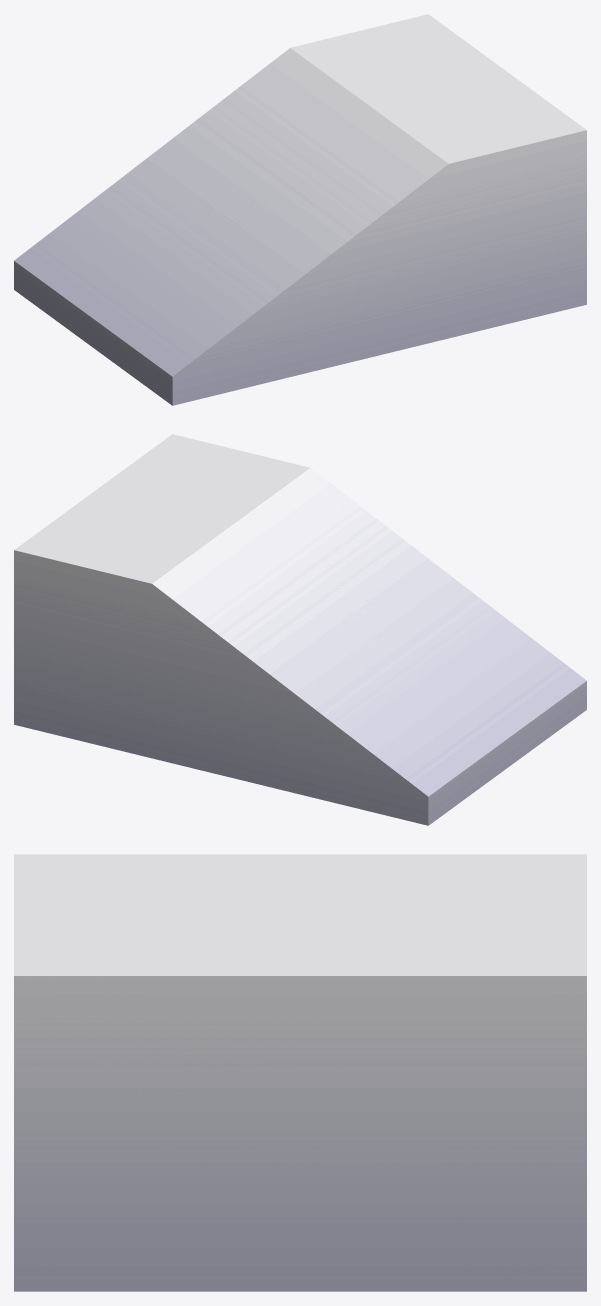
Rendered from brick-kit--none-lq-brick-slope-3x2.glb.
3 views of the same model, one above another, from view 1: azimuth 30°, elevation 25°; view 2: azimuth 150°, elevation 25°; view 3: azimuth 270°, elevation 25° (orthographic). The views are drawn at different scales.
Parts seen in each view (by area): view 1: none-lq-brick-slope-3x2; view 2: none-lq-brick-slope-3x2; view 3: none-lq-brick-slope-3x2.
Part boxes in pixels (x1,y1,x2,y2): none-lq-brick-slope-3x2: (14,14,586,405); none-lq-brick-slope-3x2: (14,434,586,825); none-lq-brick-slope-3x2: (14,854,586,1291).
Size of the model in its own units: 0.2385 by 0.096 by 0.158.
Materials: 1 (1 with a texture image).
